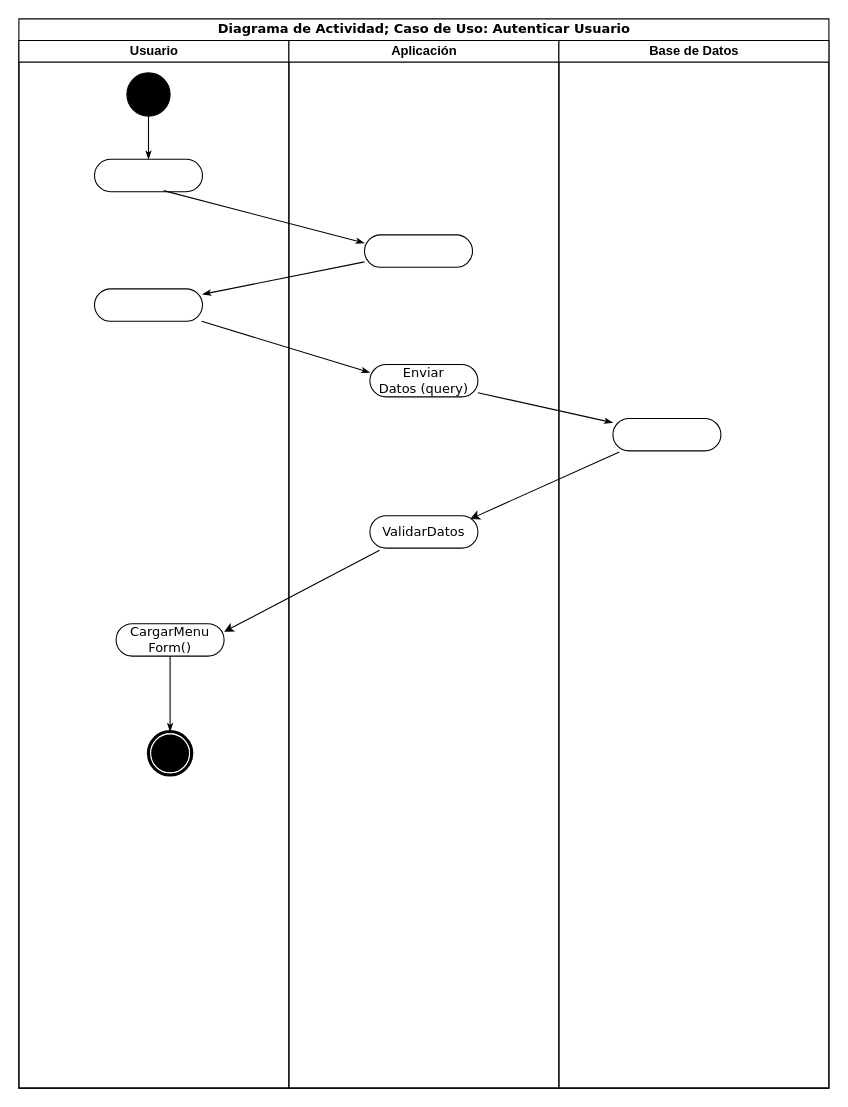
Some shapes in this 848 by 1107 pixel diagram are drawn without their labels. The shapes that lost their labels are listed below. From the top down, each one's centre as x and y in pixels, then its label:
the point at 147,175: AbrirPograma
the point at 418,250: CargarMain Form()
the point at 147,304: Llenar Formulario
the point at 666,434: Enviar Fila
